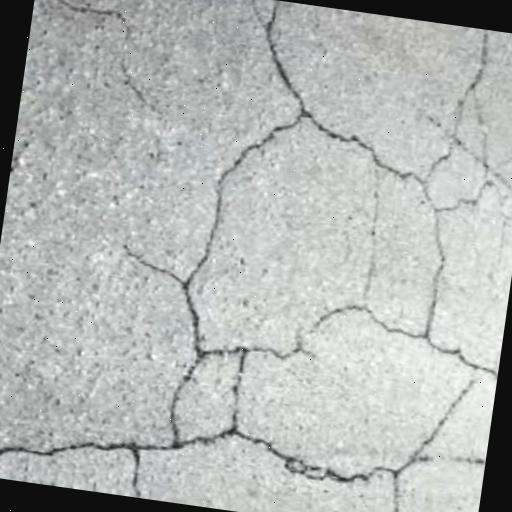spalling: (118, 1, 306, 432), (0, 423, 481, 486), (317, 30, 495, 189), (215, 301, 497, 382), (421, 107, 492, 328), (416, 378, 475, 447), (41, 0, 136, 30), (359, 194, 386, 295), (121, 463, 148, 498), (230, 368, 247, 418), (389, 490, 406, 512)
